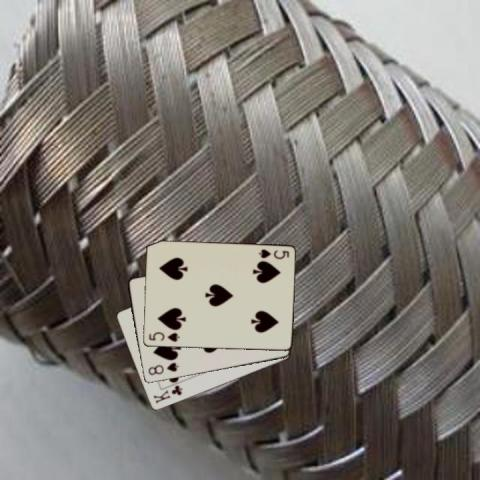5s: (146, 330, 181, 344), (255, 246, 290, 260)
8s: (145, 359, 180, 377)
Kc: (150, 383, 183, 405)
